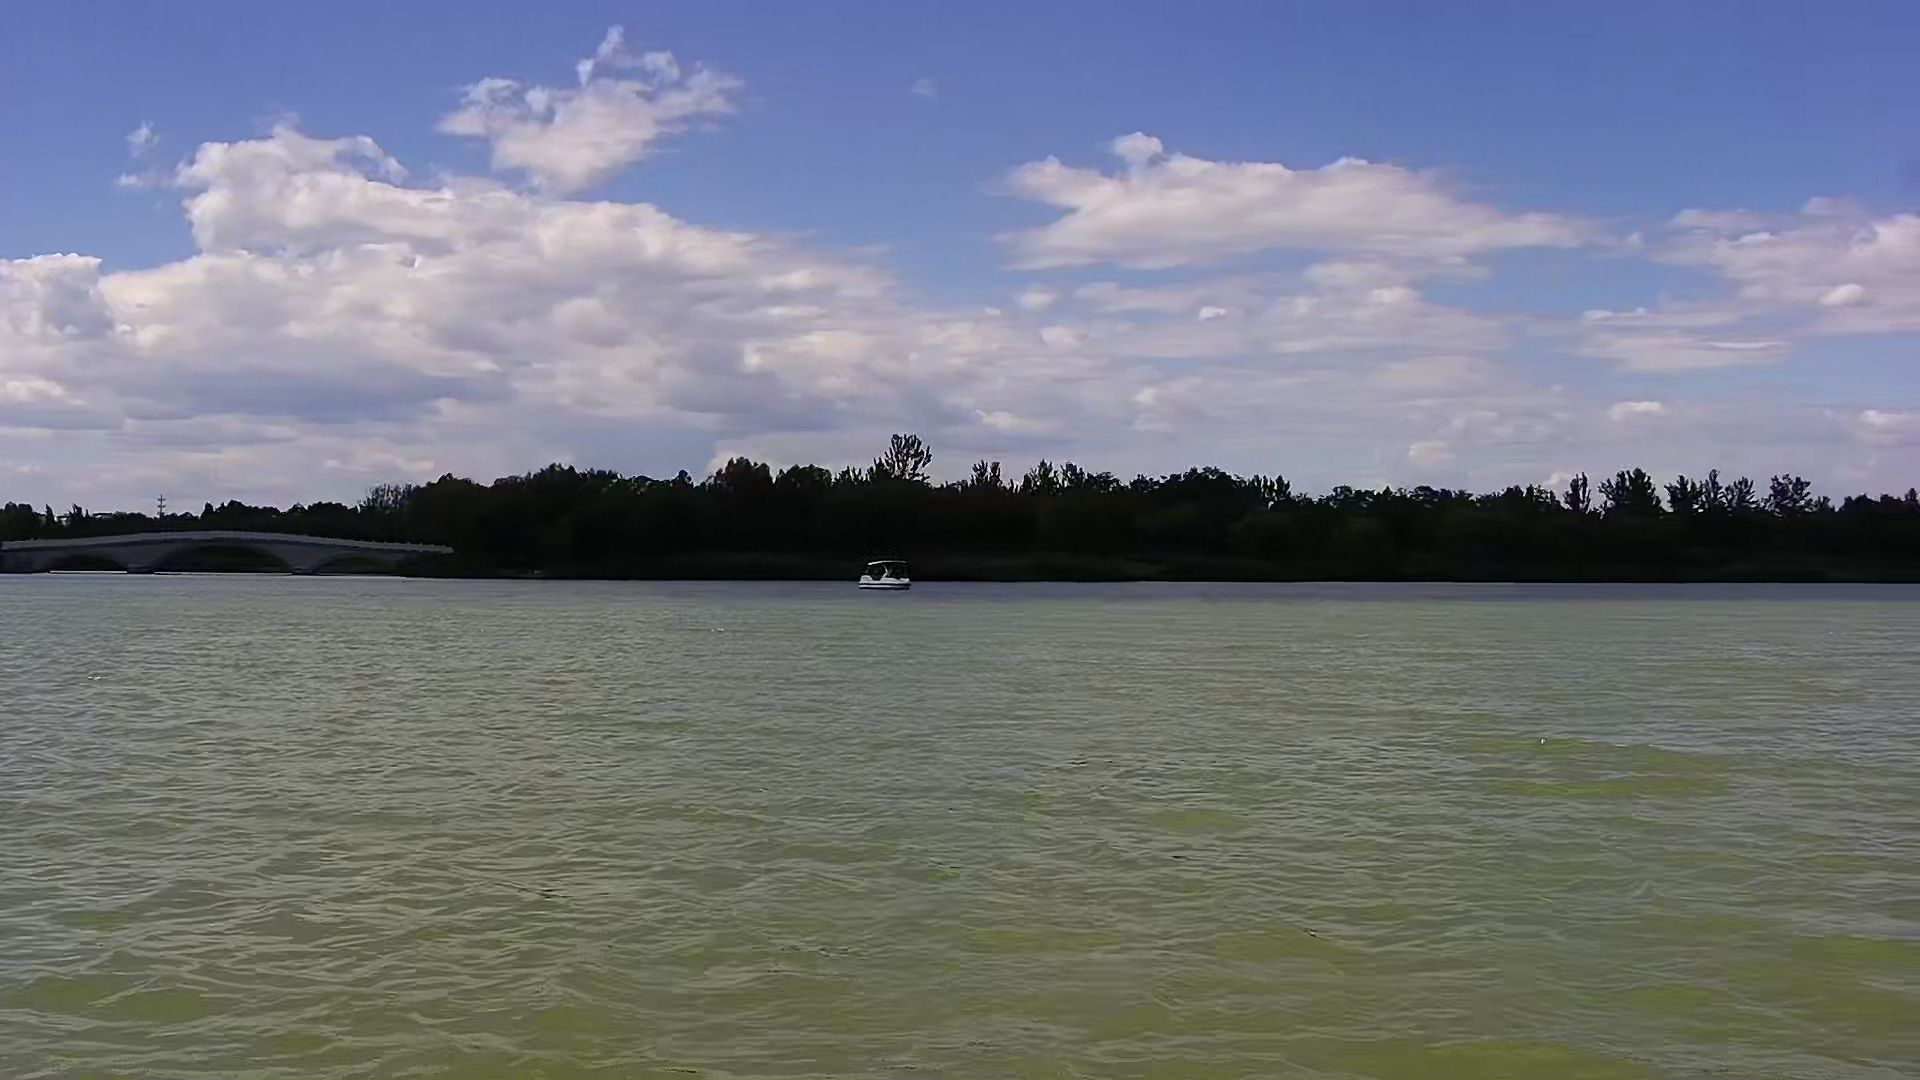boat: (853, 554, 920, 597)
bridge: (1, 529, 463, 582)
